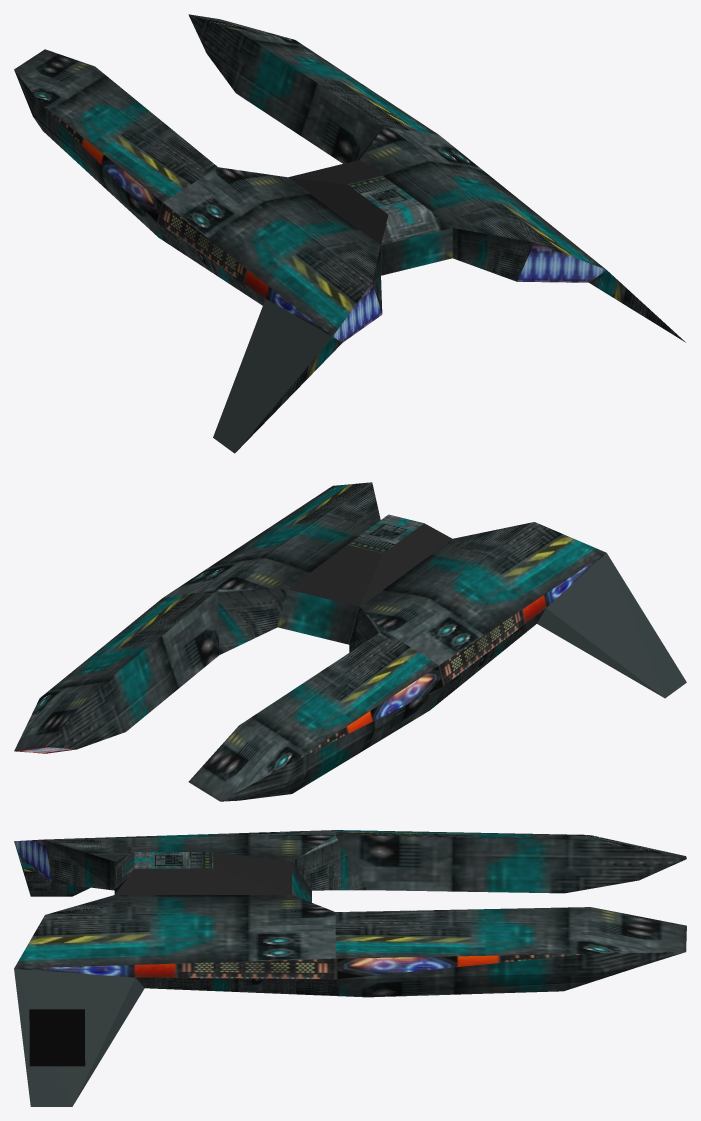
3 views of the same model, one above another, from view 1: azimuth 30°, elevation 25°; view 2: azimuth 150°, elevation 25°; view 3: azimuth 270°, elevation 25° (orthographic). The views are drawn at different scales.
Parts seen in each view (by area): view 1: DueseA03, SpitzeA03, DueseB03, SpitzeB01, FluegelA01, SpitzeB03, Glas01, Glas02, DueseB01, SpitzeA01, DueseA02, Glas03 (+5 smaller); view 2: DueseA03, SpitzeA03, DueseB03, SpitzeB01, FluegelA01, SpitzeB03, Glas01, SpitzeA01, DueseB01, Glas03, DueseA02, DueseA01 (+2 smaller); view 3: DueseB03, SpitzeA01, SpitzeB03, FluegelB01, SpitzeB01, Glas01, DueseA03, DueseA01, DueseB02, FluegelB02, DueseB01, SpitzeB02 (+5 smaller).
Boxes of the visible parts, left/top/right/bottom form: DueseA03: left=163, top=167, right=380, bottom=336; SpitzeA03: left=14, top=49, right=217, bottom=202; DueseB03: left=359, top=127, right=606, bottom=269; SpitzeB01: left=188, top=14, right=383, bottom=163; FluegelA01: left=213, top=299, right=341, bottom=453; SpitzeB03: left=189, top=14, right=438, bottom=134; Glas01: left=288, top=160, right=388, bottom=244; Glas02: left=347, top=176, right=451, bottom=245; DueseB01: left=356, top=128, right=534, bottom=281; SpitzeA01: left=14, top=70, right=158, bottom=237; DueseA02: left=157, top=202, right=330, bottom=335; Glas03: left=381, top=228, right=452, bottom=275; DueseA03: left=360, top=522, right=606, bottom=665; SpitzeA03: left=188, top=630, right=438, bottom=801; DueseB03: left=163, top=482, right=380, bottom=597; SpitzeB01: left=45, top=590, right=219, bottom=749; FluegelA01: left=537, top=553, right=686, bottom=698; SpitzeB03: left=14, top=590, right=217, bottom=751; Glas01: left=288, top=523, right=452, bottom=606; SpitzeA01: left=221, top=686, right=443, bottom=801; DueseB01: left=218, top=589, right=287, bottom=654; Glas03: left=278, top=589, right=359, bottom=644; DueseA02: left=439, top=553, right=605, bottom=685; DueseA01: left=349, top=607, right=545, bottom=709; DueseB03: left=14, top=895, right=335, bottom=968; SpitzeA01: left=335, top=835, right=686, bottom=893; SpitzeB03: left=335, top=907, right=686, bottom=958; FluegelB01: left=14, top=968, right=144, bottom=1106; SpitzeB01: left=337, top=952, right=685, bottom=997; Glas01: left=115, top=852, right=291, bottom=894; DueseA03: left=45, top=830, right=335, bottom=861; DueseA01: left=45, top=835, right=366, bottom=890; DueseB02: left=16, top=958, right=336, bottom=979; FluegelB02: left=29, top=1009, right=85, bottom=1066; DueseB01: left=136, top=977, right=363, bottom=997; SpitzeB02: left=335, top=954, right=586, bottom=979.
Bounding box in the file's own units: 48.3 × 15.14 × 65.31.
Materials: 4 (3 with a texture image).
